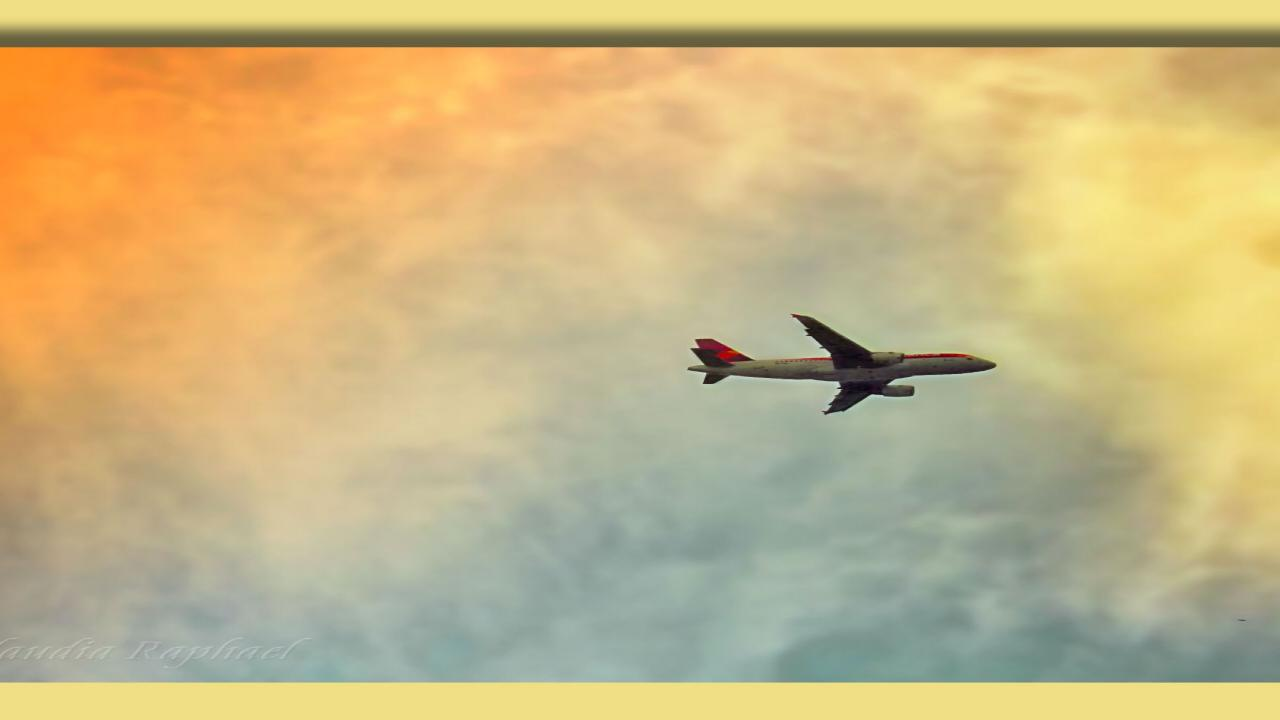Airplane: (673, 303, 1013, 428)
